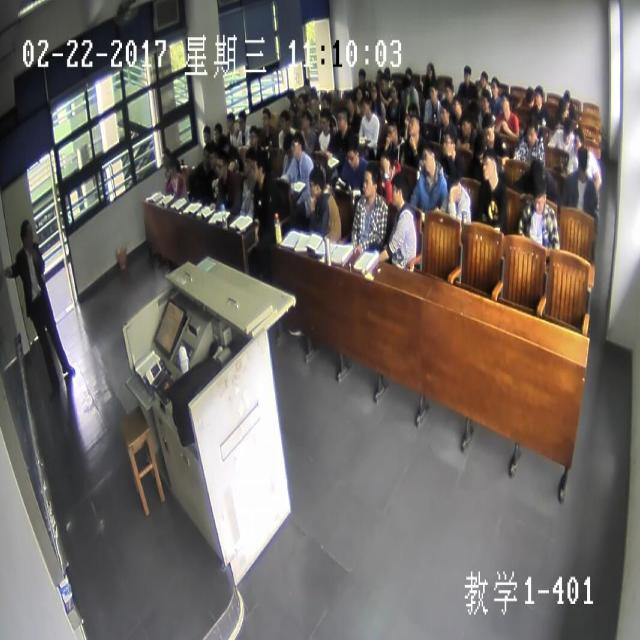person: (390, 178, 408, 206), (346, 143, 360, 171), (532, 185, 546, 212), (308, 170, 322, 195), (406, 118, 419, 143), (422, 146, 434, 173), (19, 221, 32, 245), (482, 115, 494, 141), (530, 161, 544, 183), (483, 156, 495, 181), (363, 170, 374, 196), (446, 176, 459, 197), (252, 156, 263, 180), (526, 121, 537, 145), (378, 155, 390, 176), (216, 151, 226, 176), (442, 134, 453, 154), (500, 92, 510, 114), (475, 137, 484, 160), (248, 126, 258, 146), (292, 133, 300, 158), (578, 149, 586, 174), (336, 110, 346, 129), (160, 148, 169, 168), (386, 125, 398, 140), (462, 116, 471, 136), (572, 128, 581, 148), (563, 121, 571, 143), (320, 109, 329, 128), (440, 103, 448, 124), (169, 154, 178, 172), (558, 98, 567, 116), (243, 149, 250, 172), (301, 114, 311, 130), (345, 92, 353, 112), (212, 123, 220, 141), (225, 114, 234, 130), (282, 136, 290, 154), (356, 66, 364, 84), (428, 84, 437, 100), (451, 96, 459, 114), (480, 91, 489, 107), (533, 87, 541, 105), (208, 148, 215, 168), (320, 94, 330, 108), (362, 98, 370, 115), (490, 78, 498, 95), (526, 87, 534, 104), (479, 71, 487, 87), (238, 112, 245, 130), (390, 80, 397, 98), (462, 66, 471, 80), (262, 107, 268, 126), (202, 125, 209, 141), (280, 114, 288, 128), (296, 96, 304, 110), (425, 62, 433, 76), (200, 147, 207, 162), (370, 86, 378, 98), (381, 75, 387, 90), (355, 88, 361, 102), (404, 66, 412, 76), (444, 86, 451, 97), (402, 77, 408, 89), (303, 78, 309, 89), (374, 71, 380, 79)
